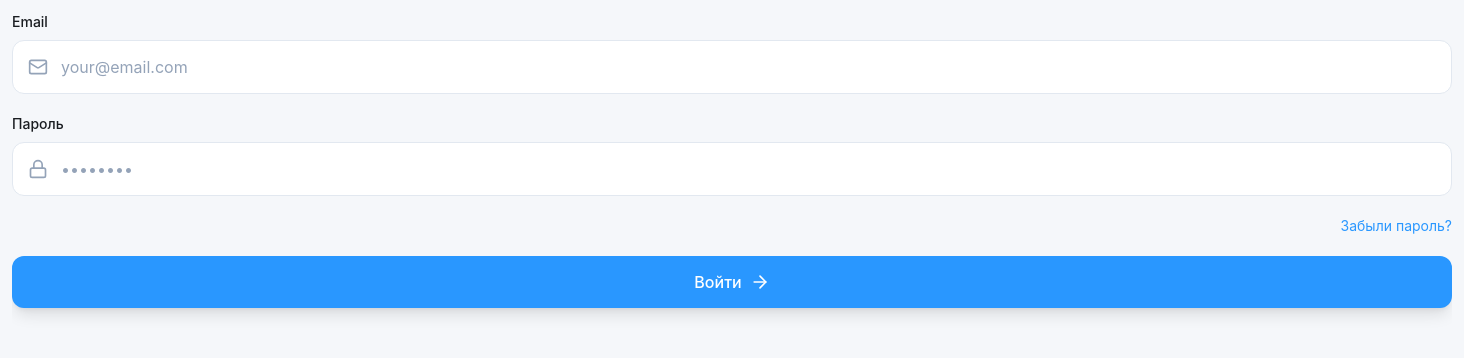
LoginForm › shows email validation error
In the field labelled "Email": (732, 67) [12,40,1452,94], type "invalid"
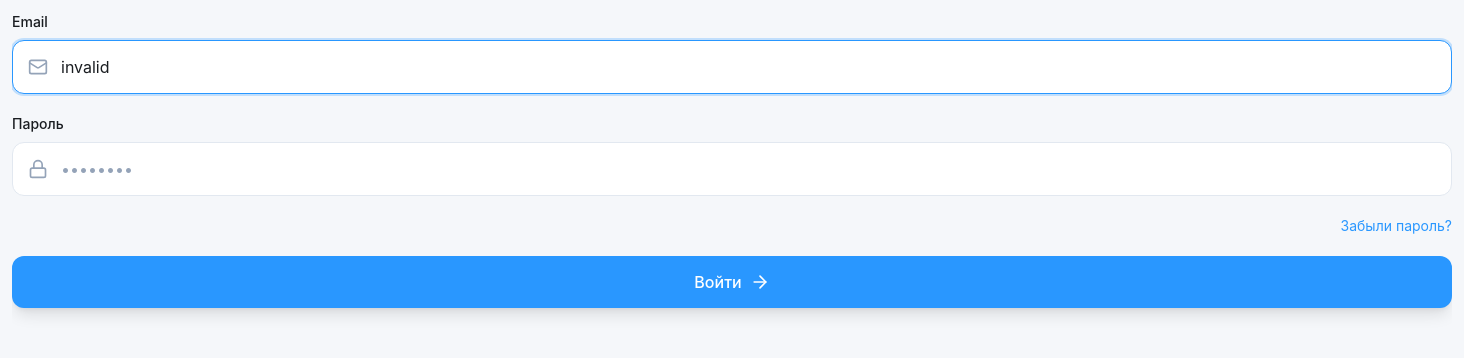
Leave the field labelled "Email", box [12,40,1452,94]
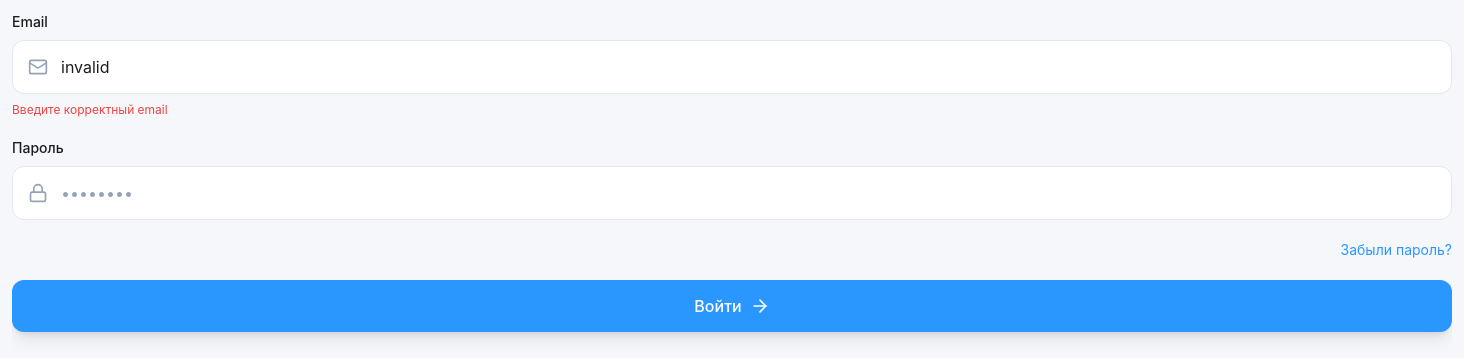
Result: the text "Введите корректный email" is shown at [12,102,168,117]
